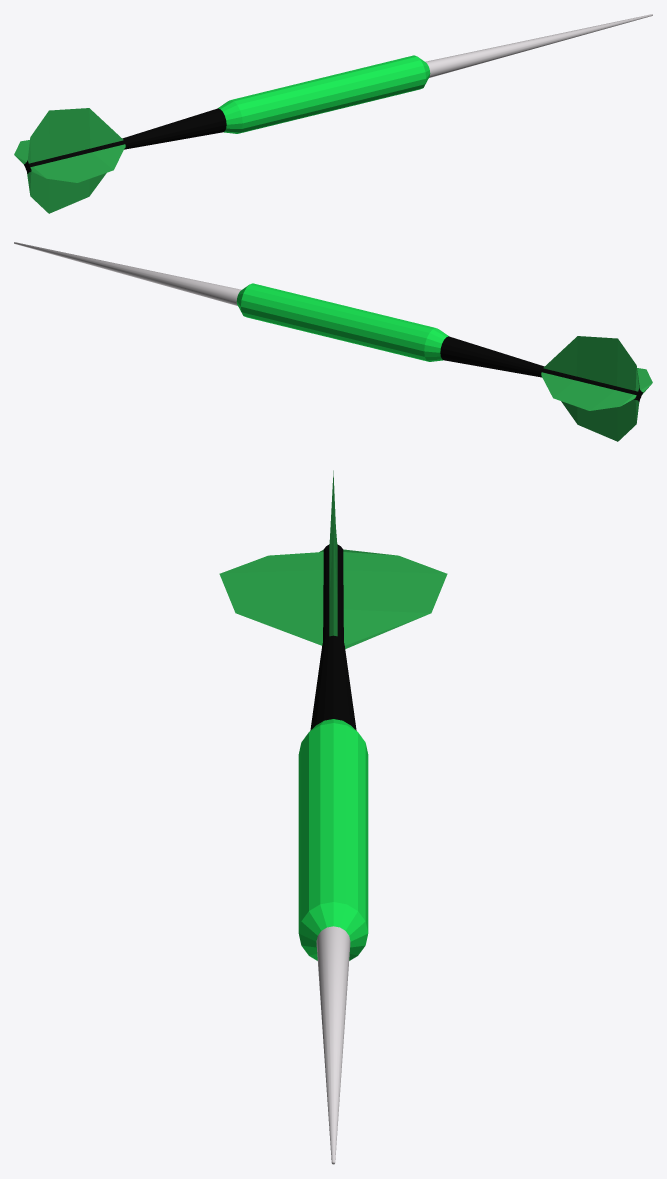
File: Dart.fbx
3 renders of one model, top to bottom at view 1: azimuth 30°, elevation 25°; view 2: azimuth 150°, elevation 25°; view 3: azimuth 270°, elevation 25°, orthographic. The views are drawn at different scales.
Parts seen in each view (by area): view 1: Stem; view 2: Stem; view 3: Stem.
Boxes of the visible parts, bbox=[...] form: Stem: bbox=[14, 14, 652, 213]; Stem: bbox=[14, 242, 652, 441]; Stem: bbox=[219, 470, 447, 1164].
Bounding box in the file's own units: 66.32 × 10.49 × 10.49.
